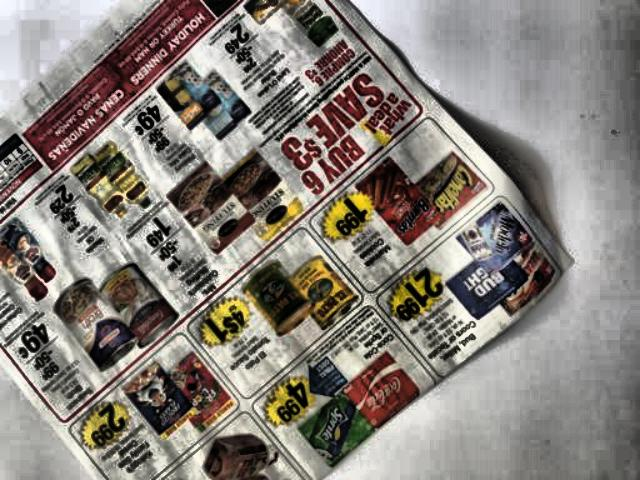Paper: (0, 0, 569, 480)
